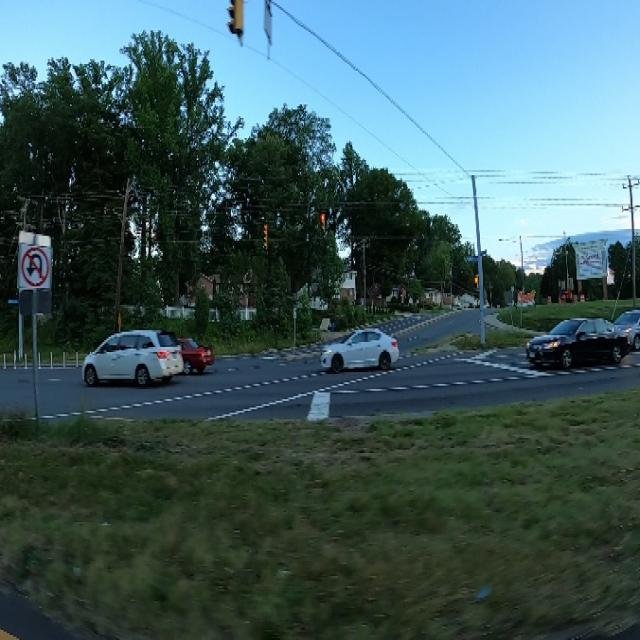car: (80, 322, 185, 392), (521, 313, 627, 374), (313, 320, 404, 376), (150, 329, 217, 373)
